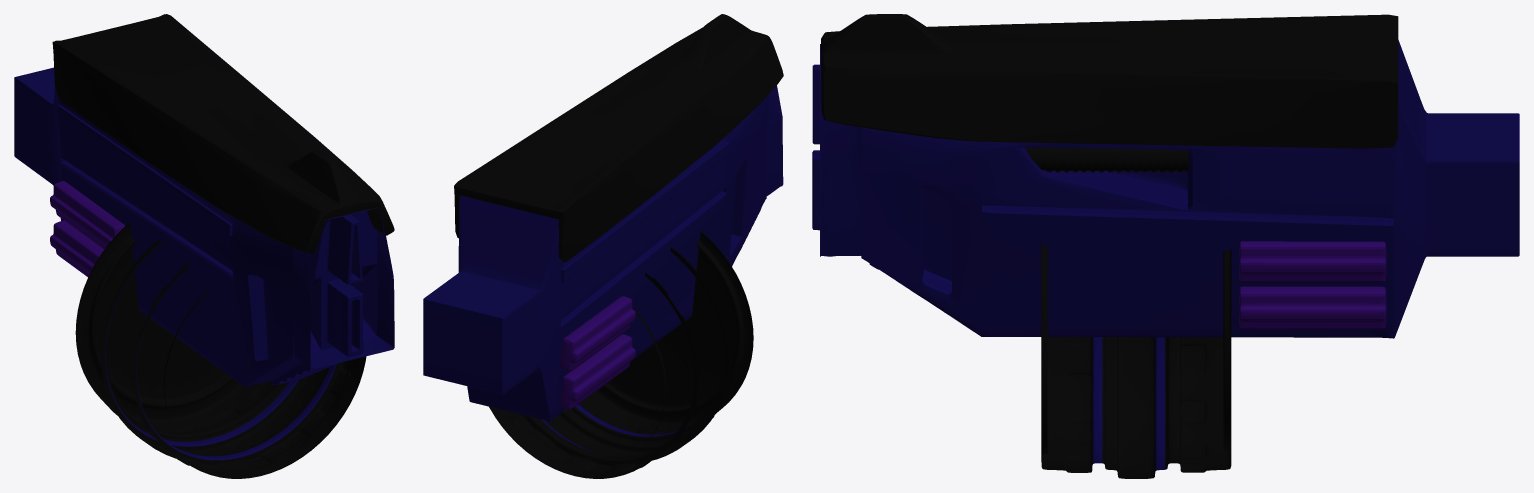
The model's file is shotgun.fbx.
The picture shows the model from 3 angles, left to right: view 1: azimuth 30°, elevation 25°; view 2: azimuth 150°, elevation 25°; view 3: azimuth 270°, elevation 25°; orthographic projection. The views are drawn at different scales.
Parts seen in each view (by area): view 1: shotgun body, shotgun plate, shotgun ammo, shotgun deco, shotgun deco.001; view 2: shotgun body, shotgun plate, shotgun ammo, shotgun deco, shotgun deco.001; view 3: shotgun body, shotgun plate, shotgun ammo, shotgun deco.001, shotgun deco, shotgun deco.002.
Part boxes in pixels (x1,y1,x2,y2): shotgun body: [14, 67, 394, 386]; shotgun plate: [52, 14, 394, 253]; shotgun ammo: [75, 222, 366, 478]; shotgun deco: [50, 181, 125, 249]; shotgun deco.001: [50, 220, 103, 276]; shotgun body: [423, 85, 783, 421]; shotgun plate: [454, 14, 783, 261]; shotgun ammo: [489, 231, 753, 478]; shotgun deco: [560, 296, 635, 371]; shotgun deco.001: [560, 334, 635, 409]; shotgun body: [812, 40, 1519, 338]; shotgun plate: [821, 14, 1398, 148]; shotgun ammo: [1041, 239, 1231, 478]; shotgun deco.001: [1239, 286, 1386, 329]; shotgun deco: [1239, 241, 1386, 282]; shotgun deco.002: [1025, 147, 1188, 172].
Size of the model in its own units: 42.02 by 66.21 by 94.78.
